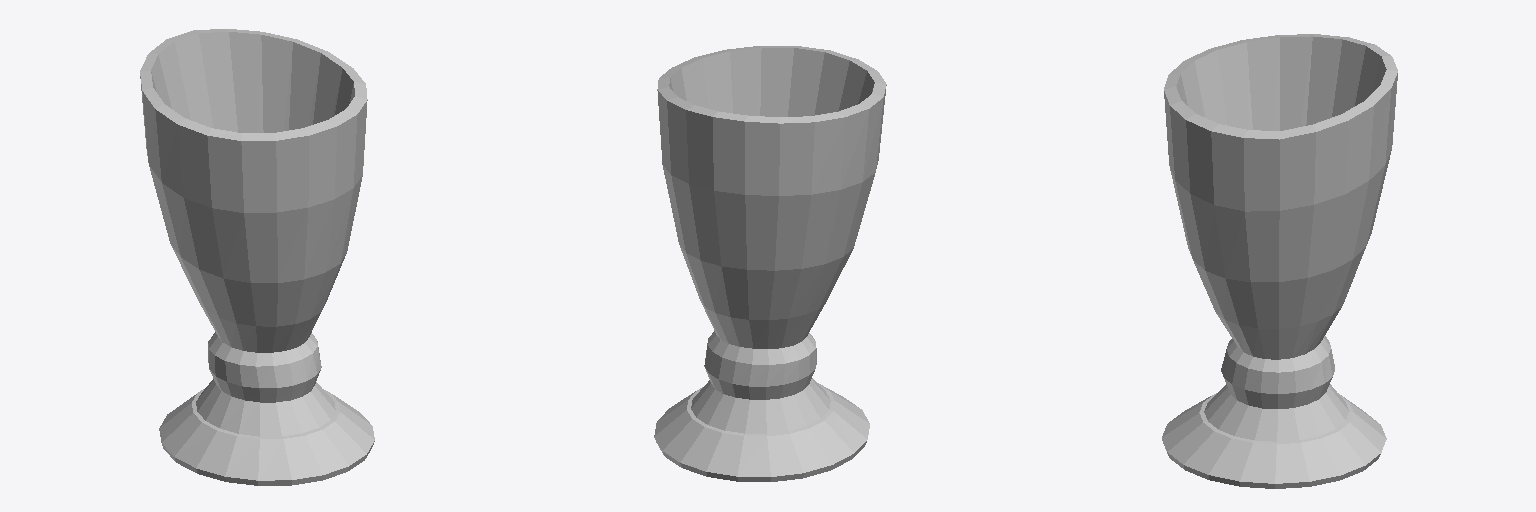
The model's file is Glass_Banquet_geo.obj.
3 renders of one model, left to right at view 1: azimuth 30°, elevation 25°; view 2: azimuth 150°, elevation 25°; view 3: azimuth 270°, elevation 25°, orthographic.
Visible parts, largest first — view 1: REDO:Goblet; view 2: REDO:Goblet; view 3: REDO:Goblet.
Part boxes in pixels (x1,y1,x2,y2): REDO:Goblet: (140, 29, 374, 485); REDO:Goblet: (654, 46, 886, 481); REDO:Goblet: (1162, 34, 1397, 488).
Bounding box in the file's own units: 1.41 × 2.47 × 1.43.